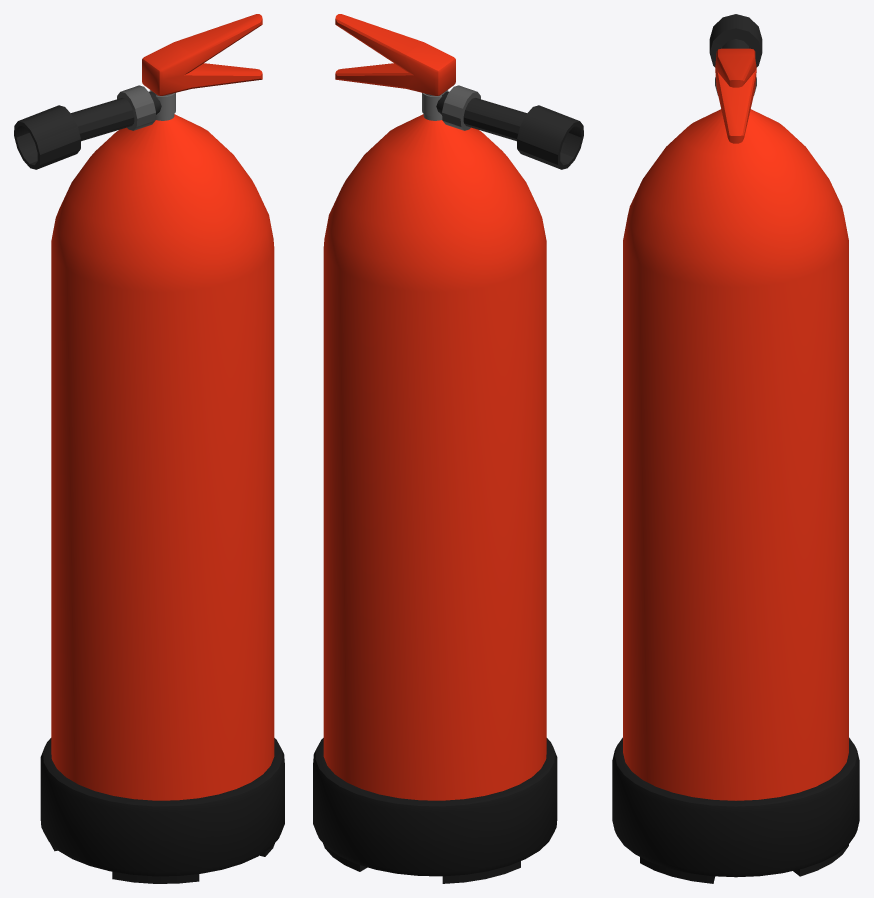
File: CHEMISTRYfireextinguisher2.glb
The picture shows the model from 3 angles, left to right: view 1: azimuth 30°, elevation 25°; view 2: azimuth 150°, elevation 25°; view 3: azimuth 270°, elevation 25°; orthographic projection.
Parts seen in each view (by area): view 1: CHEMISTRYfireextinguisher; view 2: CHEMISTRYfireextinguisher; view 3: CHEMISTRYfireextinguisher.
Part boxes in pixels (x1=…): CHEMISTRYfireextinguisher: x1=14, y1=14, x2=284, y2=883; CHEMISTRYfireextinguisher: x1=313, y1=14, x2=583, y2=883; CHEMISTRYfireextinguisher: x1=612, y1=14, x2=859, y2=883.
Bounding box in the file's own units: 0.2518 × 0.7832 × 0.2182.
1 material, 1 textured.
